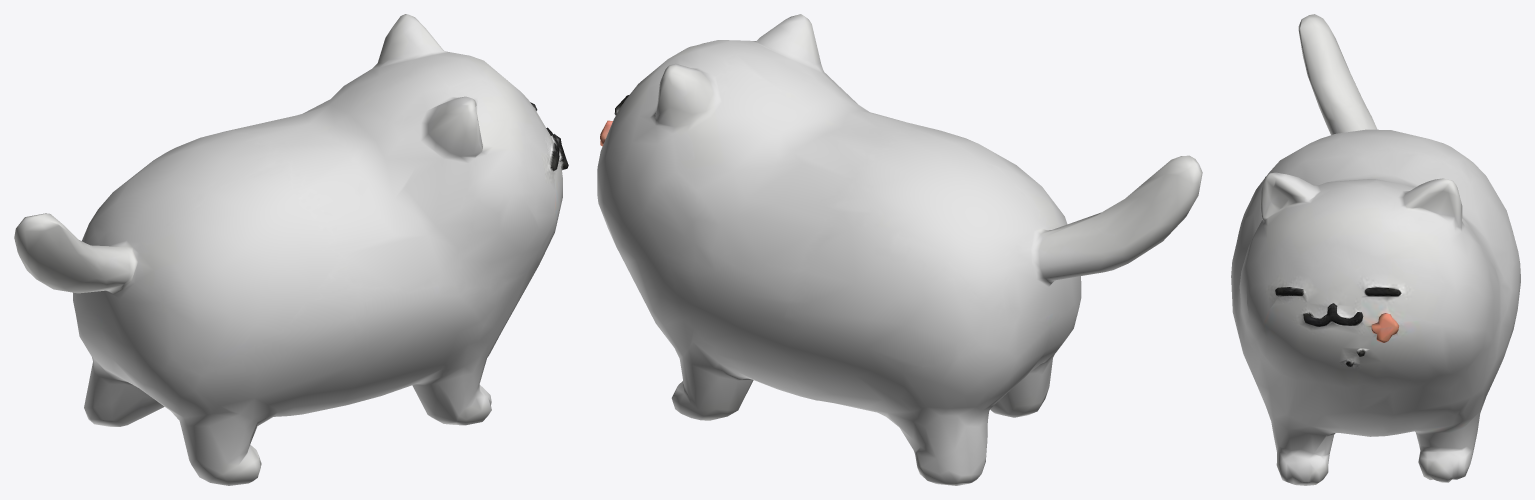
File: TUBBSCAT-lo.glb
3 views of the same model, side by side, from view 1: azimuth 30°, elevation 25°; view 2: azimuth 150°, elevation 25°; view 3: azimuth 270°, elevation 25° (orthographic). The views are drawn at different scales.
Parts seen in each view (by area): view 1: tripo_node_e4f5e0a9-0815-415c-b85d-d4e8bdd02b18; view 2: tripo_node_e4f5e0a9-0815-415c-b85d-d4e8bdd02b18; view 3: tripo_node_e4f5e0a9-0815-415c-b85d-d4e8bdd02b18.
Boxes of the visible parts, box(x1,y1,x2,y2) form: tripo_node_e4f5e0a9-0815-415c-b85d-d4e8bdd02b18: box(14, 14, 568, 485); tripo_node_e4f5e0a9-0815-415c-b85d-d4e8bdd02b18: box(597, 14, 1202, 485); tripo_node_e4f5e0a9-0815-415c-b85d-d4e8bdd02b18: box(1231, 14, 1520, 485).
Bounding box in the file's own units: 1.74 × 0.9998 × 0.8483.
Materials: 1 (1 with a texture image).
